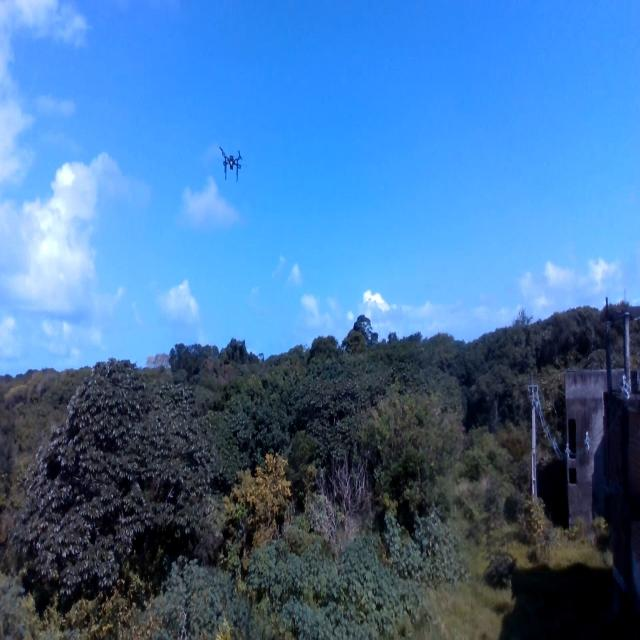-uav-: (217, 138, 250, 185)
